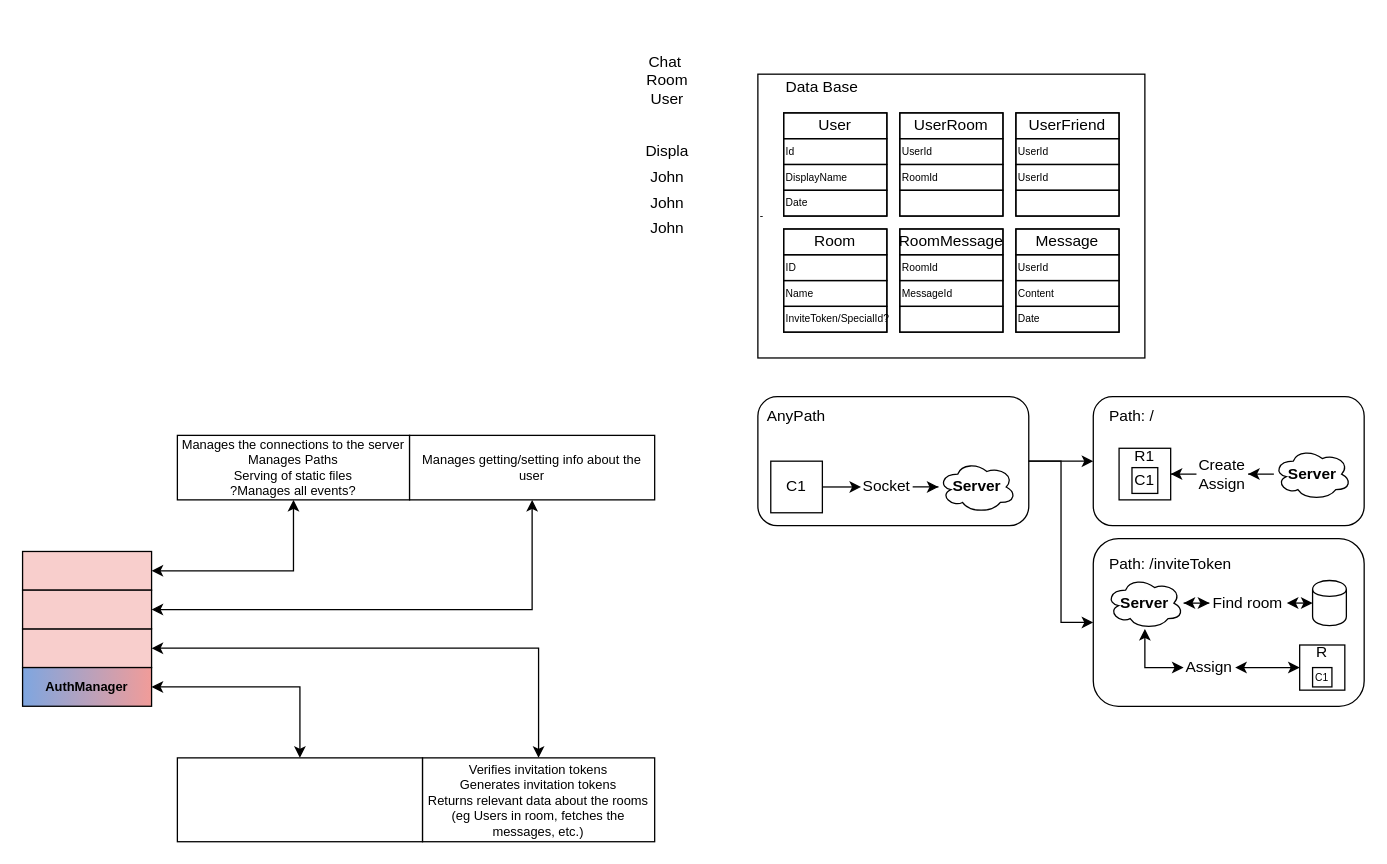
Image size: 1387x864. Some labels were removed from this diagram. Each missing label, with the centre of its shape:
Account creation (client/server) Hashing: point 299,799
ConnectionManager: point 86,570
DB: point 1328,602
RoomManager: point 86,648
UserManager: point 86,609
